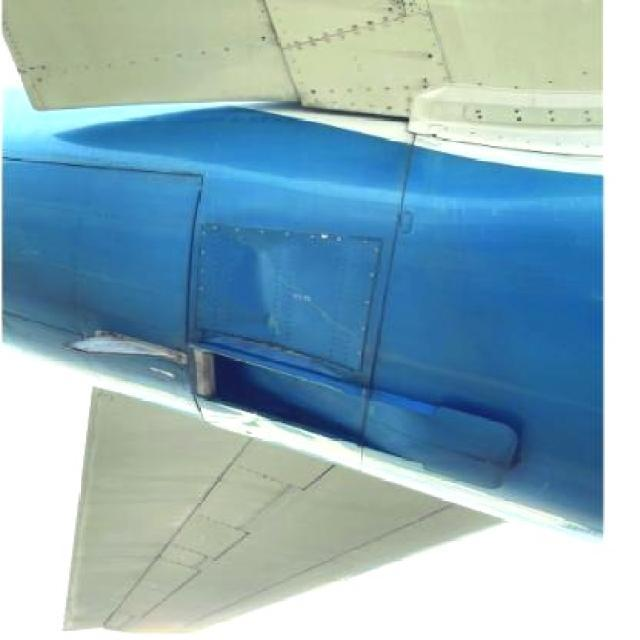dent: (213, 232, 327, 375)
